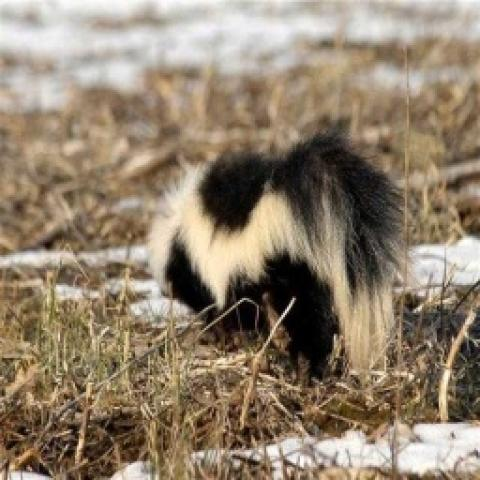small_animal: (144, 128, 410, 386)
